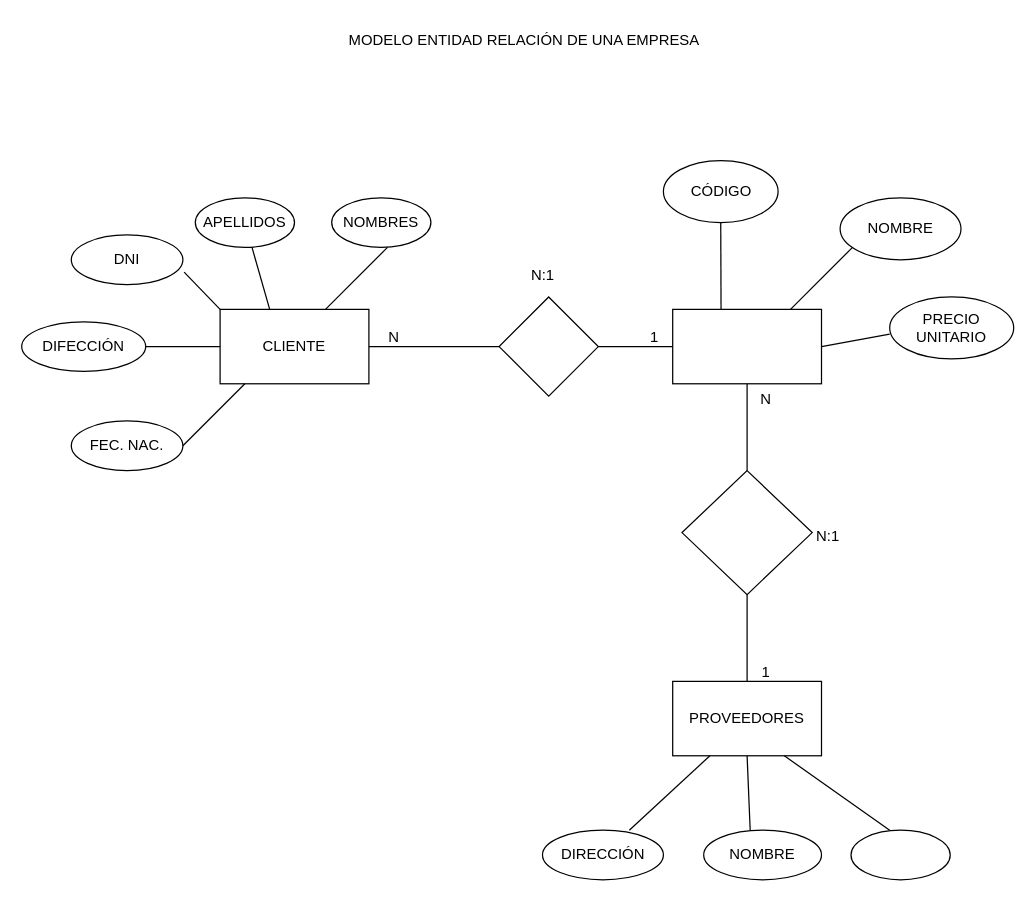
This 1035x901 diagram has some shape labels left out. Here are the shapes that lost their labels. From the top down, the centre of each, then its label:
(x=548, y=346): COMPRA
(x=746, y=346): PRODUCTO
(x=746, y=532): SUMINISTRA
(x=900, y=854): NIF
